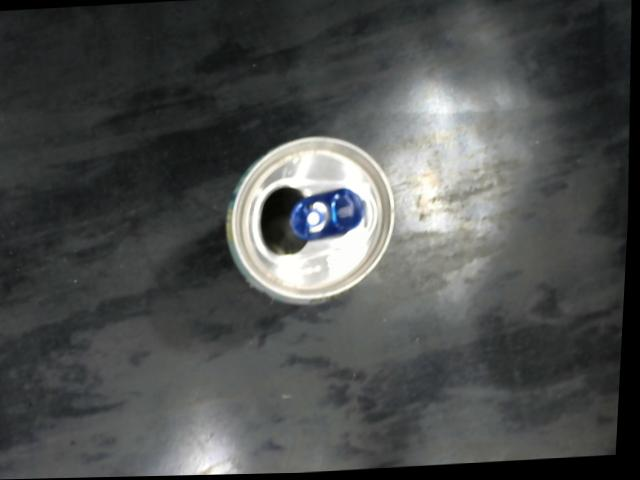can: (222, 132, 405, 312)
